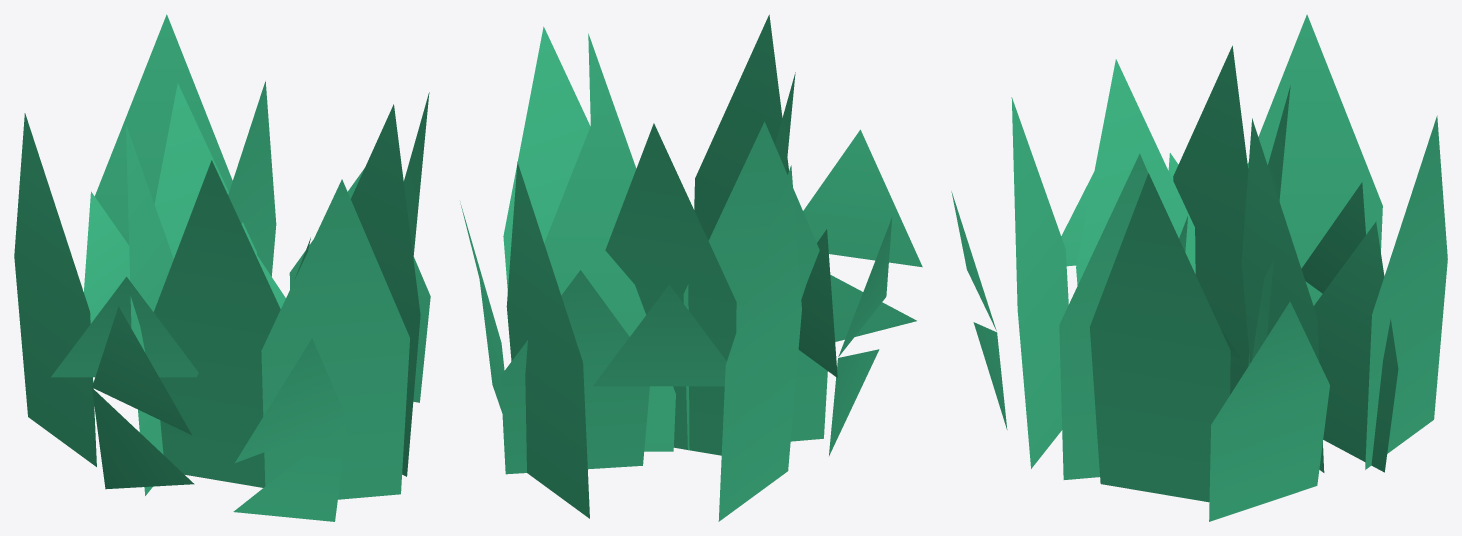
The model's file is Unmowed_High_085_1.glb.
3 views of the same model, side by side, from view 1: azimuth 30°, elevation 25°; view 2: azimuth 150°, elevation 25°; view 3: azimuth 270°, elevation 25° (orthographic).
Parts seen in each view (by area): view 1: Mowed Grass High LOD; view 2: Mowed Grass High LOD; view 3: Mowed Grass High LOD.
Part boxes in pixels (x1,y1,x2,y2): Mowed Grass High LOD: (14,14,430,521); Mowed Grass High LOD: (460,14,922,521); Mowed Grass High LOD: (951,14,1447,521).
Size of the model in its own units: 0.4313 by 0.38 by 0.5044.
